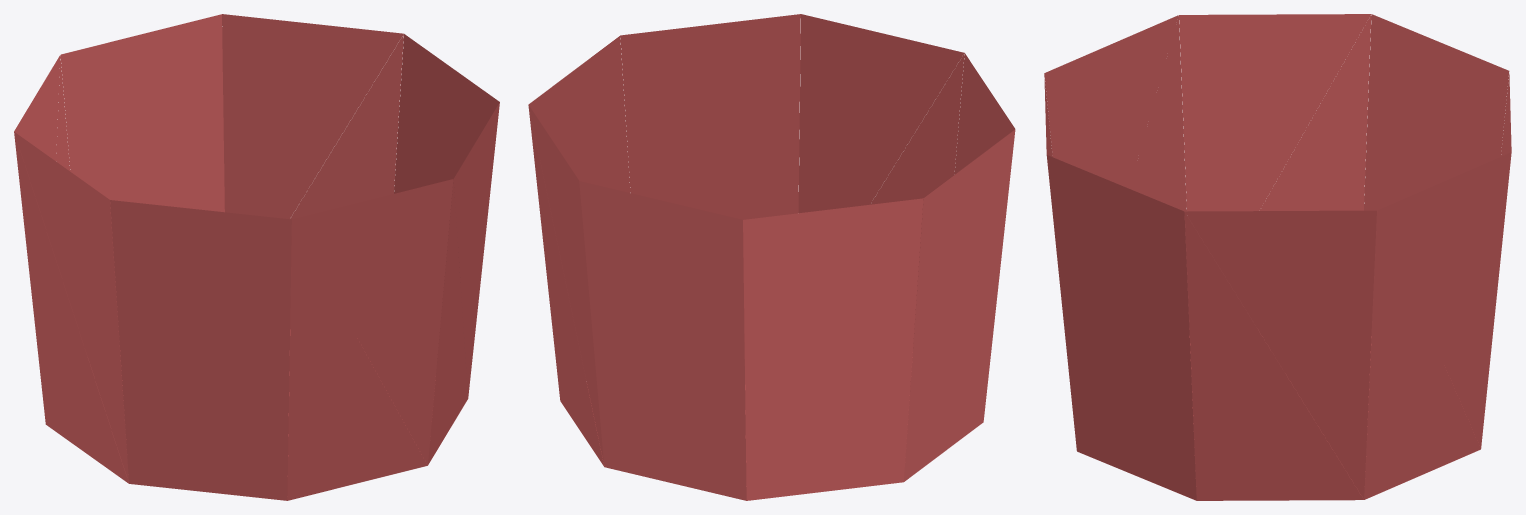
Rendered from koopa2_boss.glb.
3 renders of one model, left to right at view 1: azimuth 30°, elevation 25°; view 2: azimuth 150°, elevation 25°; view 3: azimuth 270°, elevation 25°, orthographic. The views are drawn at different scales.
Parts seen in each view (by area): view 1: koopa2_boss_col; view 2: koopa2_boss_col; view 3: koopa2_boss_col.
Part boxes in pixels (x1,y1,x2,y2): koopa2_boss_col: (14, 14, 499, 500); koopa2_boss_col: (528, 14, 1015, 500); koopa2_boss_col: (1044, 14, 1511, 500).
Size of the model in its own units: 14.71 by 10.5 by 14.7.
